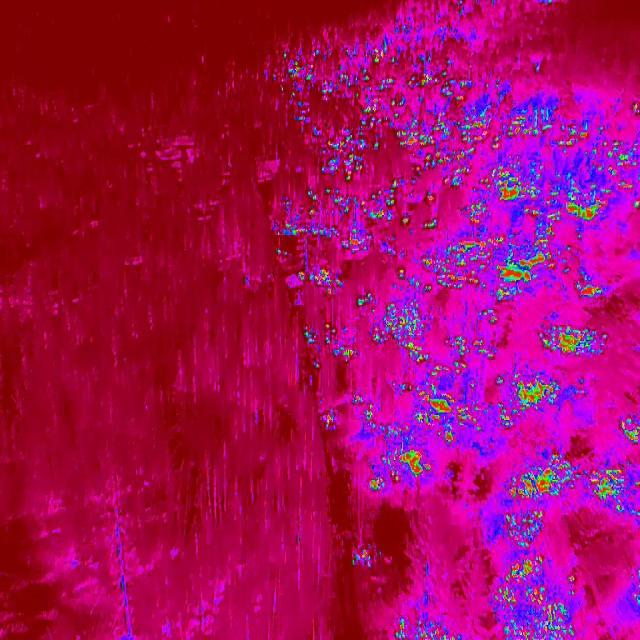fire: (280, 39, 486, 193), (396, 374, 560, 444), (488, 157, 616, 244), (274, 192, 442, 258), (434, 240, 567, 310), (354, 294, 447, 364), (489, 587, 575, 640), (488, 115, 592, 154), (501, 454, 577, 506), (598, 136, 640, 209), (368, 446, 434, 492), (540, 315, 604, 359), (450, 310, 500, 360), (302, 325, 362, 363), (503, 512, 554, 556), (590, 467, 636, 515), (301, 264, 349, 302), (388, 615, 458, 640), (396, 254, 438, 294), (502, 555, 550, 586), (350, 393, 380, 432), (458, 199, 489, 233), (348, 540, 378, 571), (572, 278, 606, 304), (316, 405, 342, 435), (618, 414, 640, 448), (631, 102, 640, 116)
